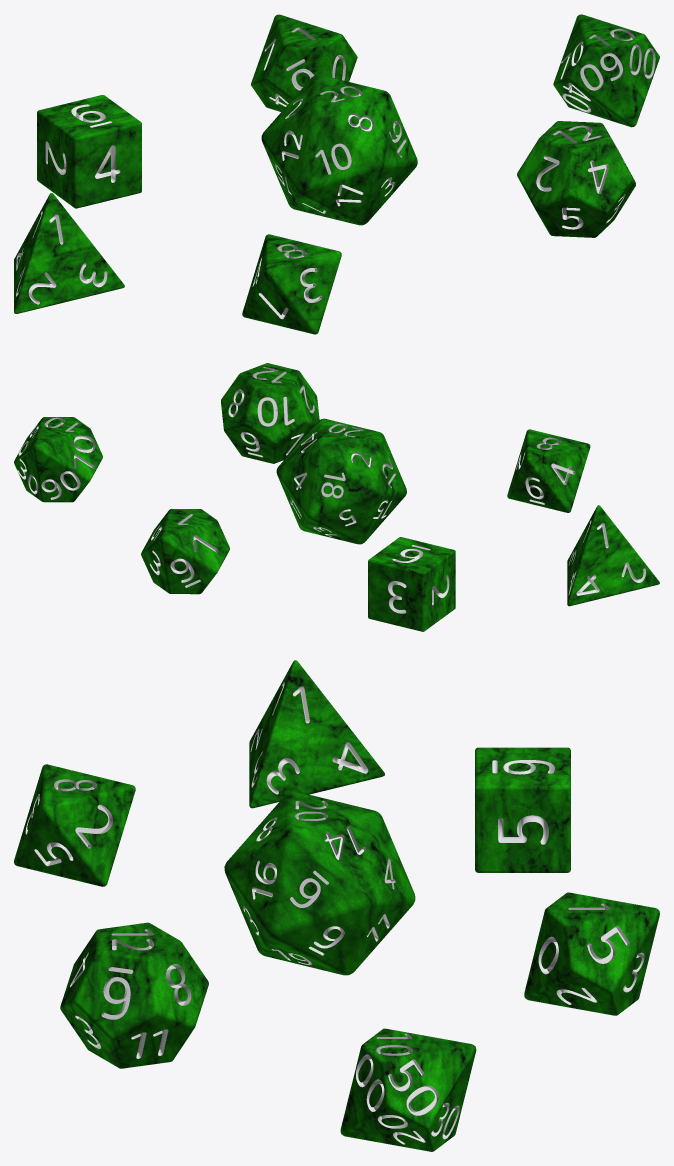
Rendered from green_marble_dice_set_rpg.glb.
The picture shows the model from 3 angles, top to bottom: view 1: azimuth 30°, elevation 25°; view 2: azimuth 150°, elevation 25°; view 3: azimuth 270°, elevation 25°; orthographic projection. The views are drawn at different scales.
Parts seen in each view (by area): view 1: D20_4, D12_3, D6_1, D10 100_5, D4_0, D8_2, D10_6; view 2: D20_4, D12_3, D6_1, D10 100_5, D10_6, D4_0, D8_2; view 3: D20_4, D12_3, D10 100_5, D10_6, D6_1, D4_0, D8_2.
Boxes of the visible parts, x1,y1,x2,y2 form: D20_4: (261,74,417,225); D12_3: (517,121,635,237); D6_1: (37,95,141,208); D10 100_5: (553,14,659,127); D4_0: (14,193,124,313); D8_2: (242,234,341,334); D10_6: (251,14,357,111); D20_4: (276,418,406,544); D12_3: (221,363,319,463); D6_1: (368,537,455,631); D10 100_5: (14,417,102,502); D10_6: (141,509,229,594); D4_0: (567,505,659,606); D8_2: (507,429,590,512); D20_4: (224,791,415,975); D12_3: (60,922,208,1068); D10 100_5: (340,1028,476,1151); D10_6: (524,892,659,1015); D6_1: (475,747,570,872); D4_0: (249,660,384,808); D8_2: (14,764,135,886).
Bounding box in the file's own units: 12.88 × 2.07 × 8.4.
Materials: 8 (7 with a texture image).
